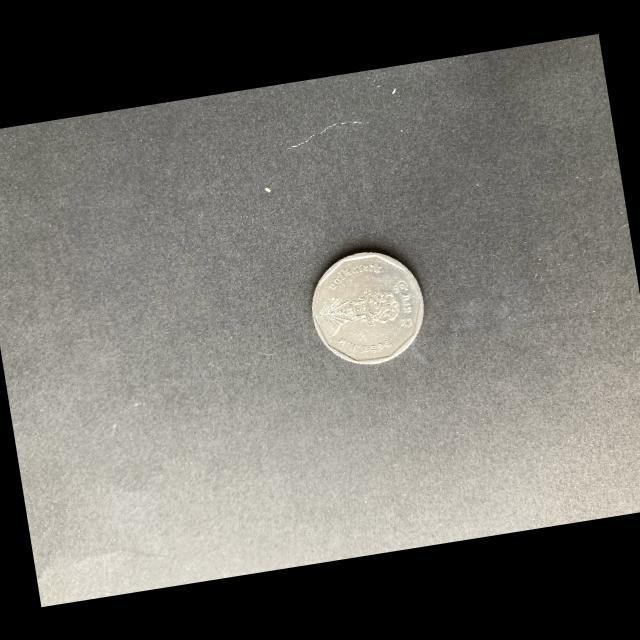5 Bath: (310, 249, 430, 374)
